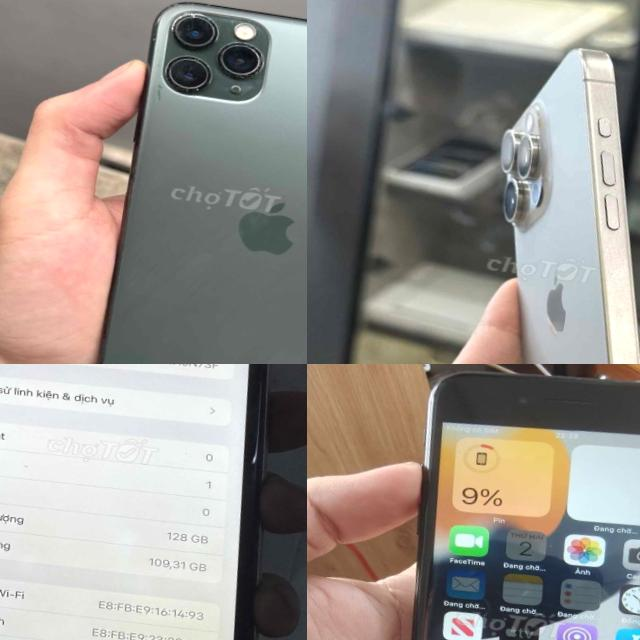scratch: (574, 366, 640, 405)
